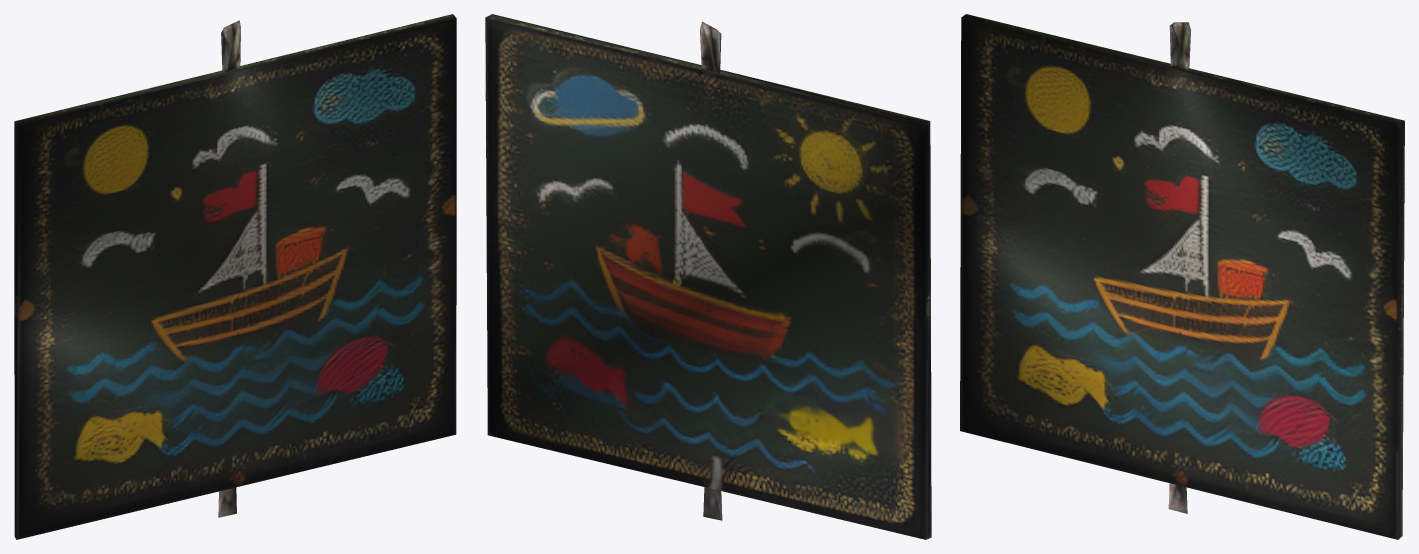
File: all  kids_paintings5.fbx
3 views of the same model, side by side, from view 1: azimuth 30°, elevation 25°; view 2: azimuth 150°, elevation 25°; view 3: azimuth 330°, elevation 25° (orthographic).
Visible parts, largest first — view 1: all kids_paintings5; view 2: all kids_paintings5; view 3: all kids_paintings5.
Part boxes in pixels (left/top/right/bottom): all kids_paintings5: left=14, top=14, right=456, bottom=539; all kids_paintings5: left=485, top=14, right=931, bottom=539; all kids_paintings5: left=960, top=14, right=1404, bottom=539.
Bounding box in the file's own units: 136 × 146 × 2.89.
Materials: 1 (1 with a texture image).
